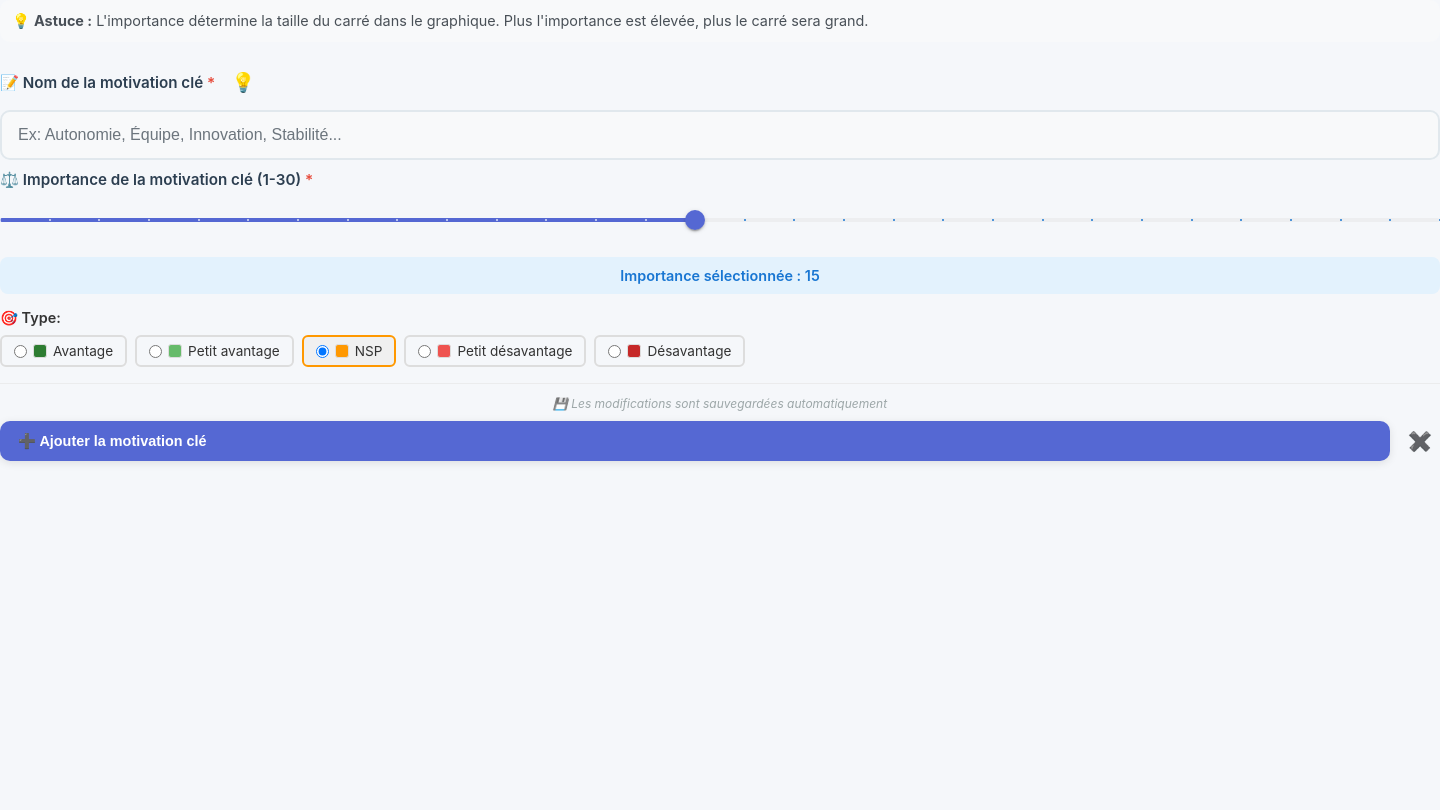
Test: CritereForm › should fill name input when suggestion is selected
Step 1. Click the button named "voir les suggestions" → x=243, y=82, box [223,62,263,102]
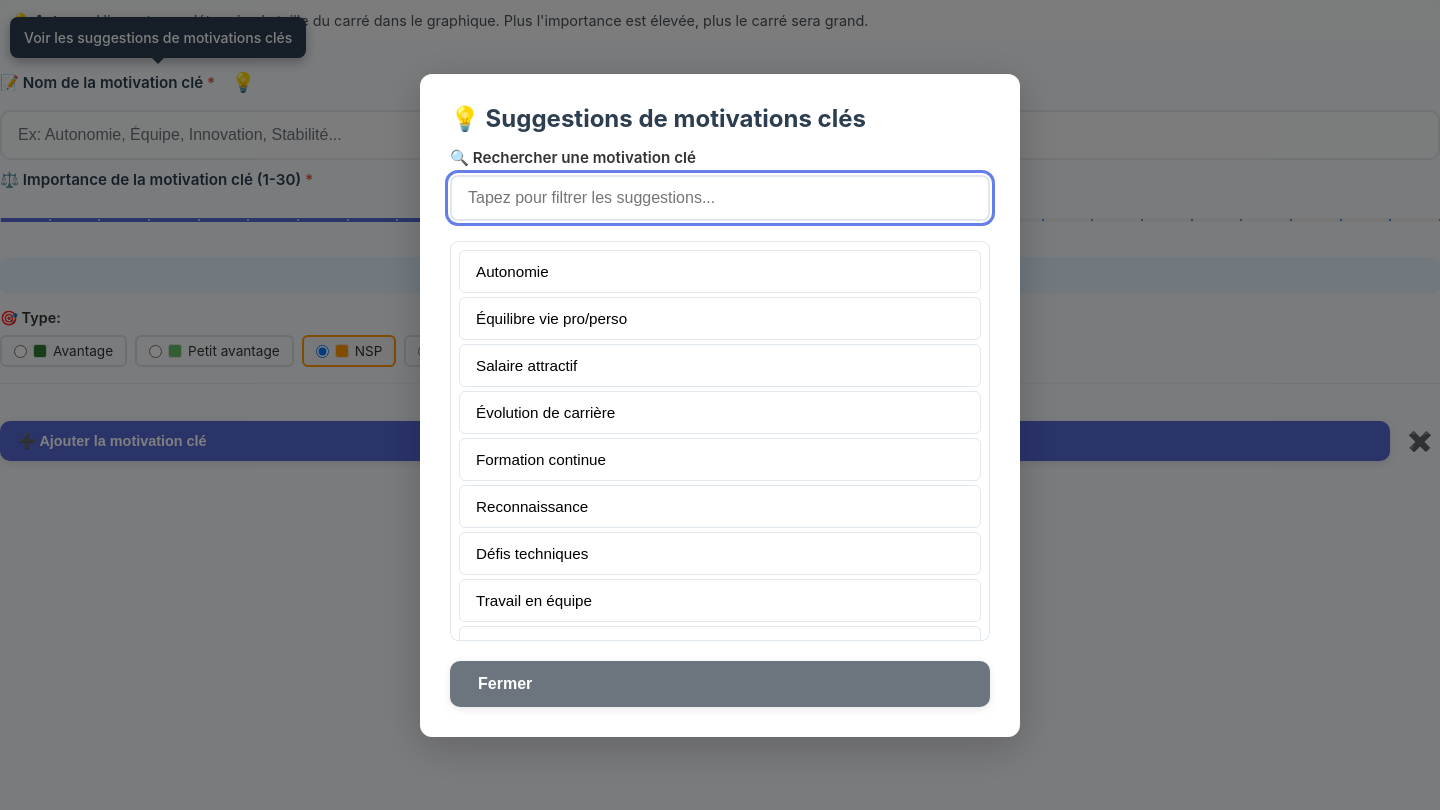
Check: the heading "💡 Suggestions de motivations clés" is shown, box [450,104,866,132]
Click on first suggestion
Step 2. Click the button "Autonomie" → x=512, y=271, box [459,250,981,292]
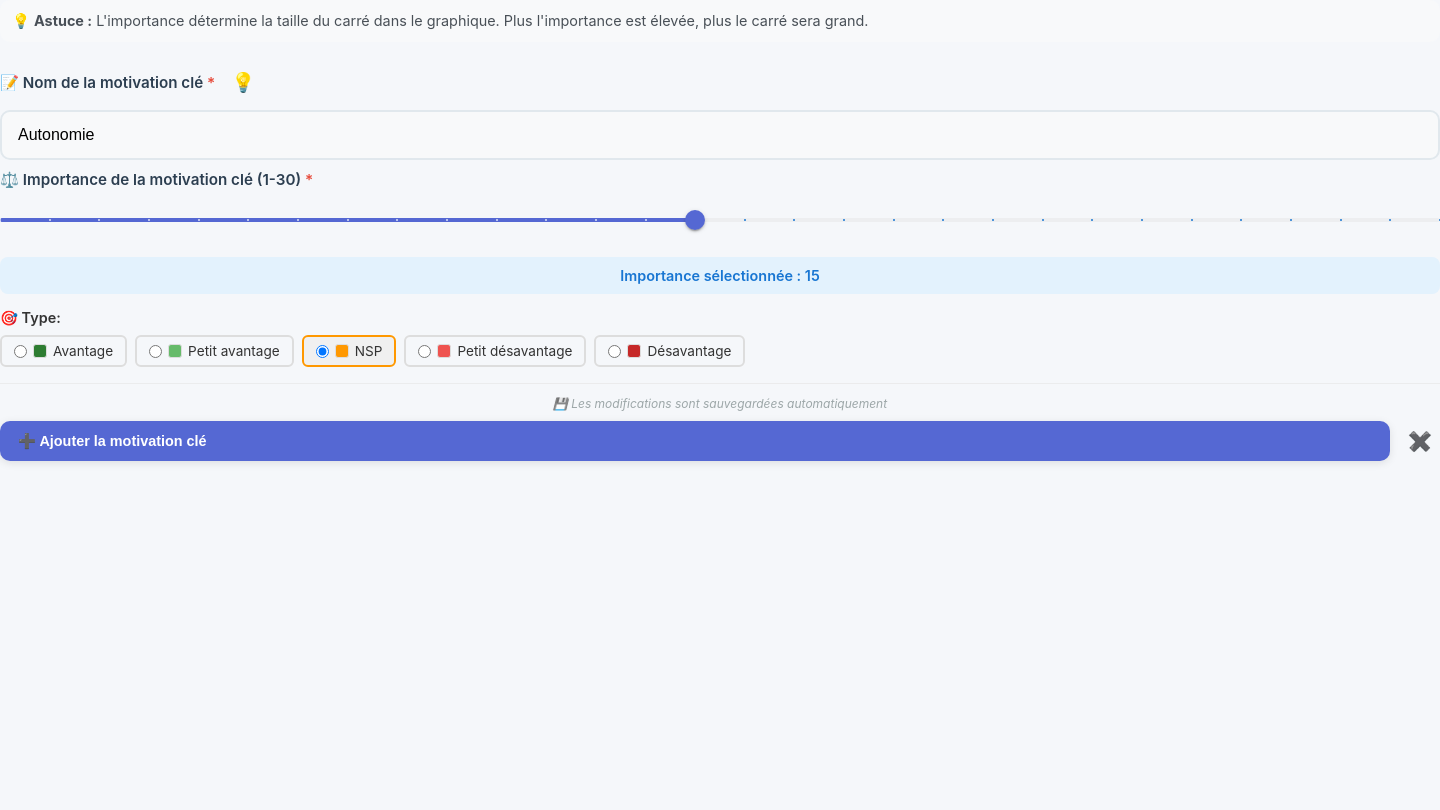
Check: the heading "💡 Suggestions de motivations clés" is gone
Check: the field labelled "📝 Nom de la motivation clé * 💡" holds "Autonomie", box [0,110,1439,160]
